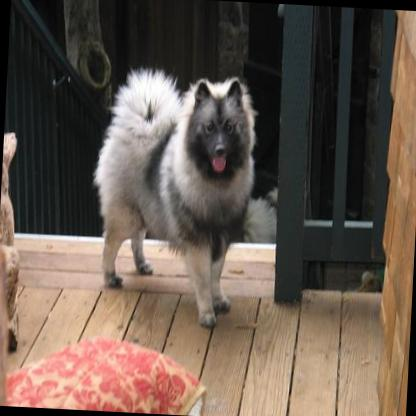keeshond: (86, 62, 256, 326)
